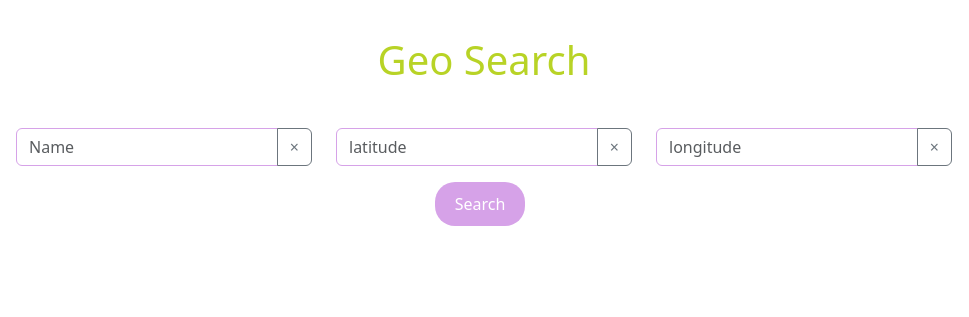
SearchForm component › shows error message for invalid latitude
Type "invalid" into the field with placeholder "latitude".
click(467, 147); type("invalid")  # box [336,128,598,166]
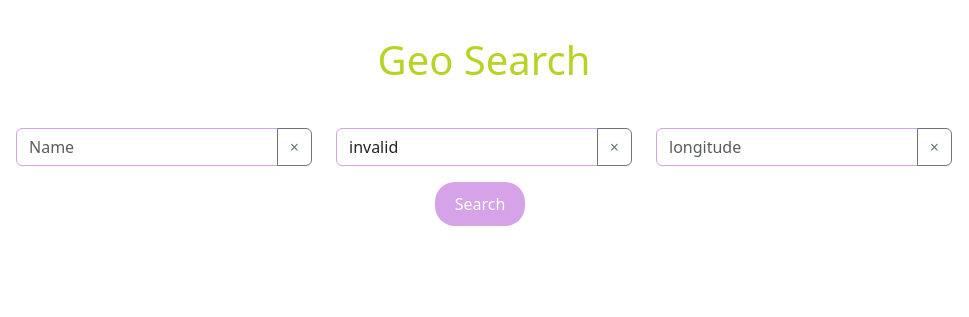
Submit the form from the field with placeholder "latitude", box [336,128,598,166]
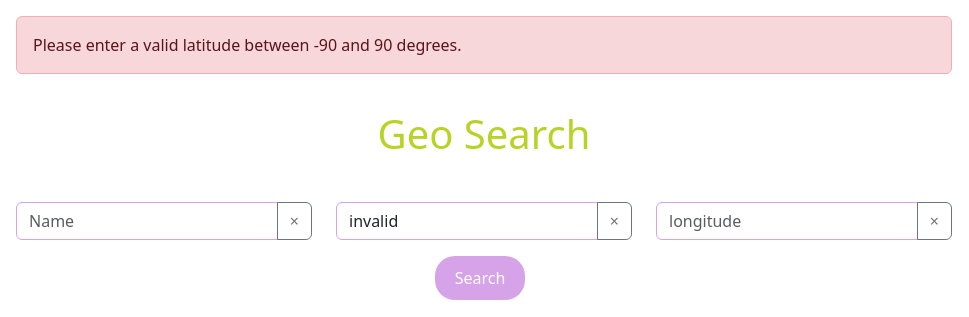
Expected: the text "Please enter a valid latitude between -90 and 90 degrees." is shown, [16,16,952,74]
